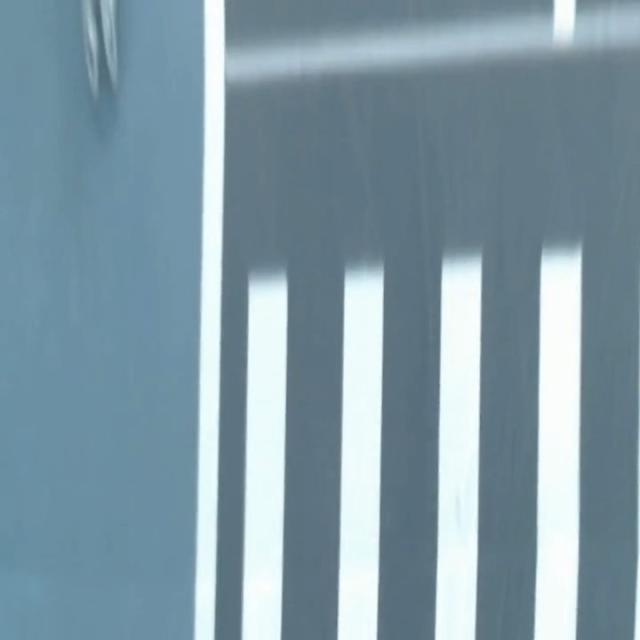center: (553, 0, 575, 40)
